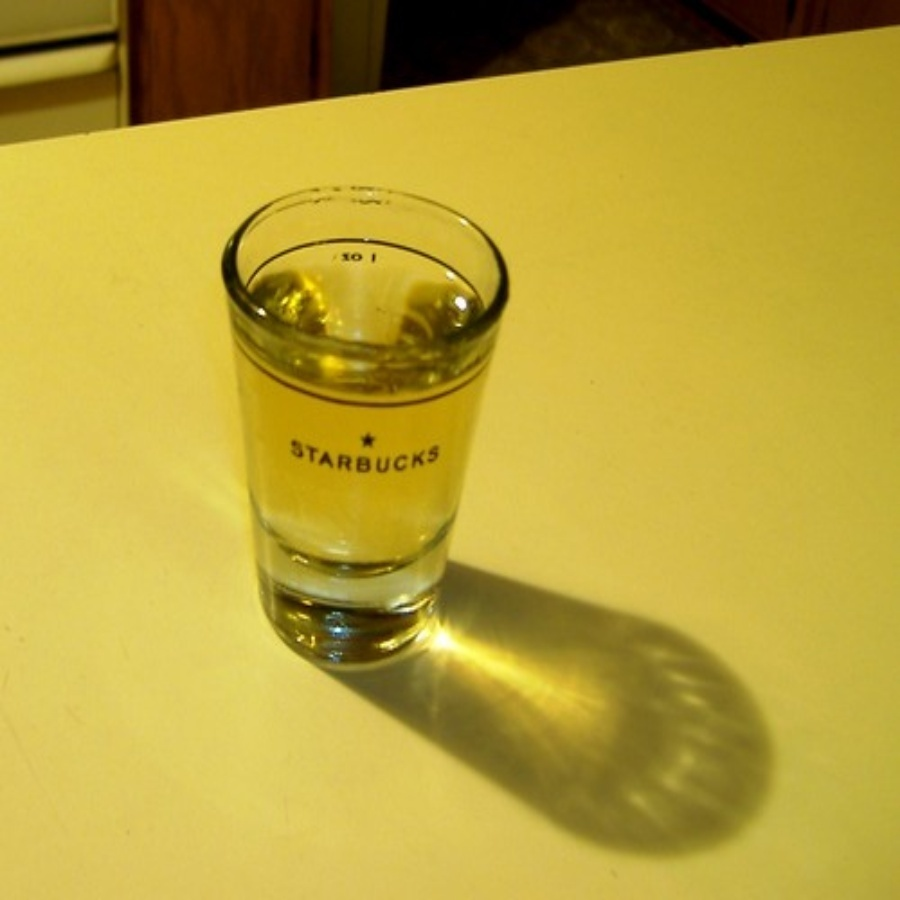whiskey: (211, 185, 501, 673)
